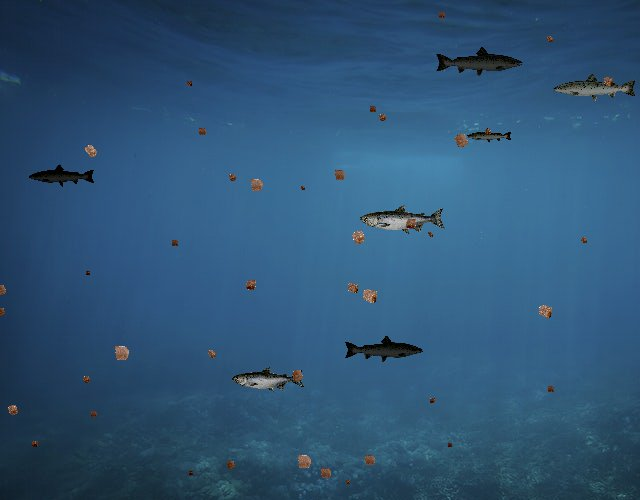Fish: (435, 45, 525, 78), (552, 72, 638, 103), (360, 204, 446, 235), (344, 335, 425, 364), (233, 366, 306, 393), (29, 164, 97, 188), (466, 128, 513, 145)
Pellet: (106, 337, 136, 368), (243, 171, 270, 198), (1, 399, 24, 421), (240, 274, 262, 296), (366, 102, 380, 116), (426, 395, 439, 408), (183, 77, 196, 90)
